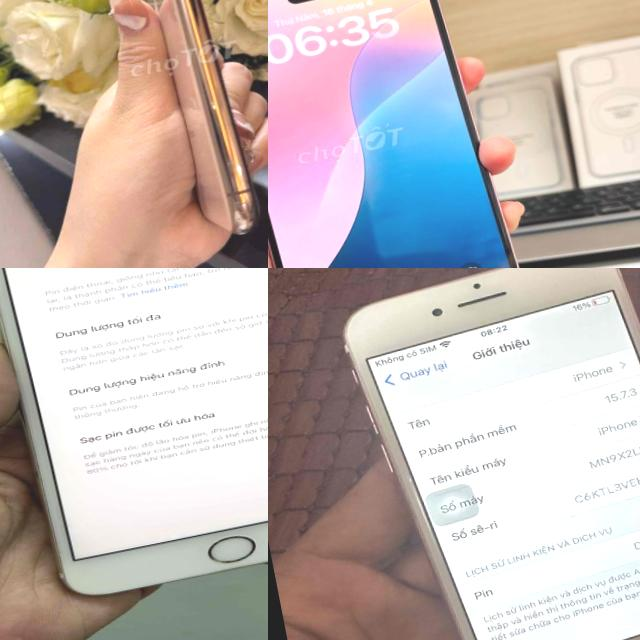scratch: (222, 197, 268, 240), (202, 92, 233, 118)
